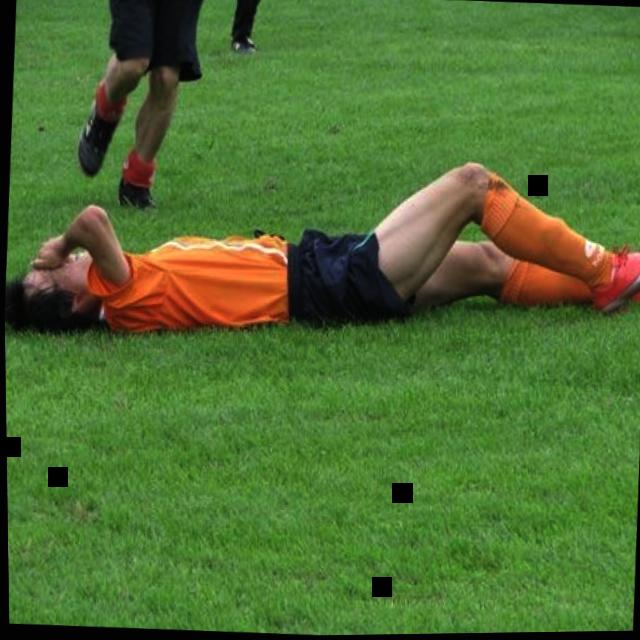Fall-Detected: (2, 135, 640, 366)
